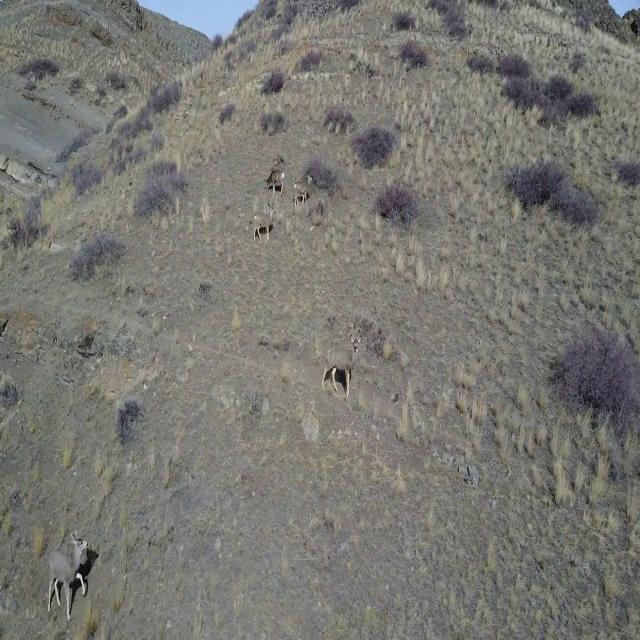Deer: (44, 524, 94, 622), (318, 322, 362, 400), (245, 201, 281, 251), (292, 170, 317, 212), (265, 162, 285, 196)
